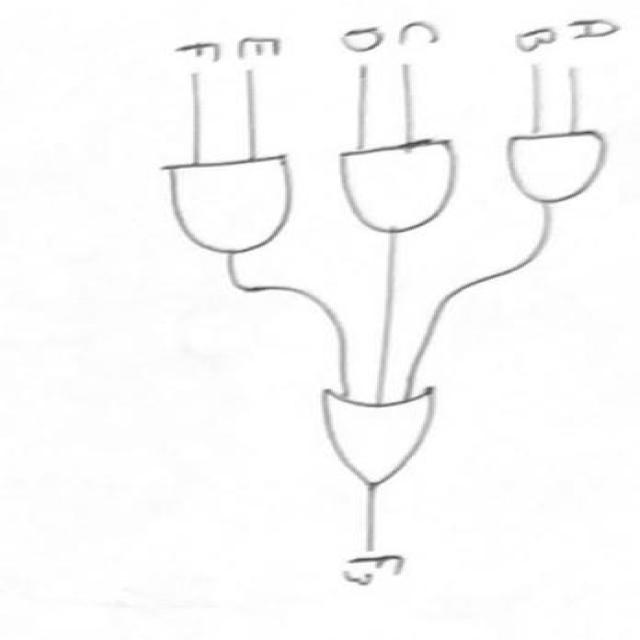AND: (142, 154, 310, 261), (335, 134, 468, 239), (493, 124, 625, 216)
OR: (279, 375, 464, 500)
